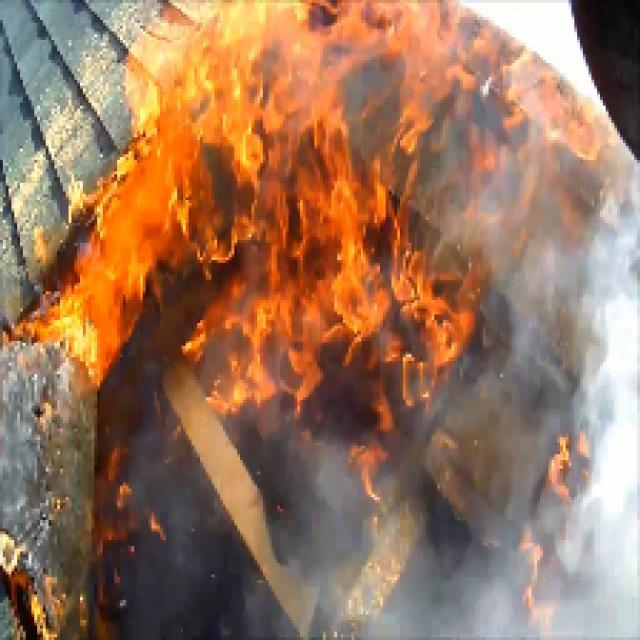Fire: (144, 44, 440, 382), (70, 168, 139, 360)
Smoke: (592, 458, 634, 629)
